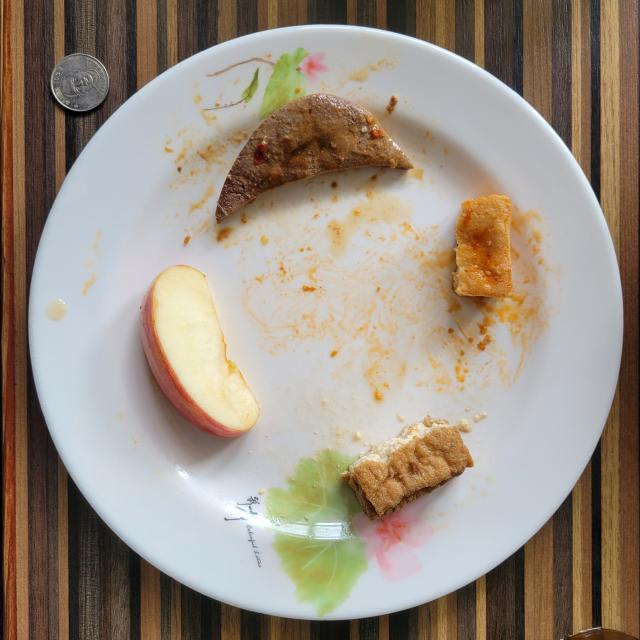apple -sliced-: (140, 265, 260, 438)
coin: (51, 54, 109, 111)
creamy tofu: (452, 195, 512, 298)
egg tofu: (341, 415, 474, 520)
pig liver: (216, 94, 412, 222)
